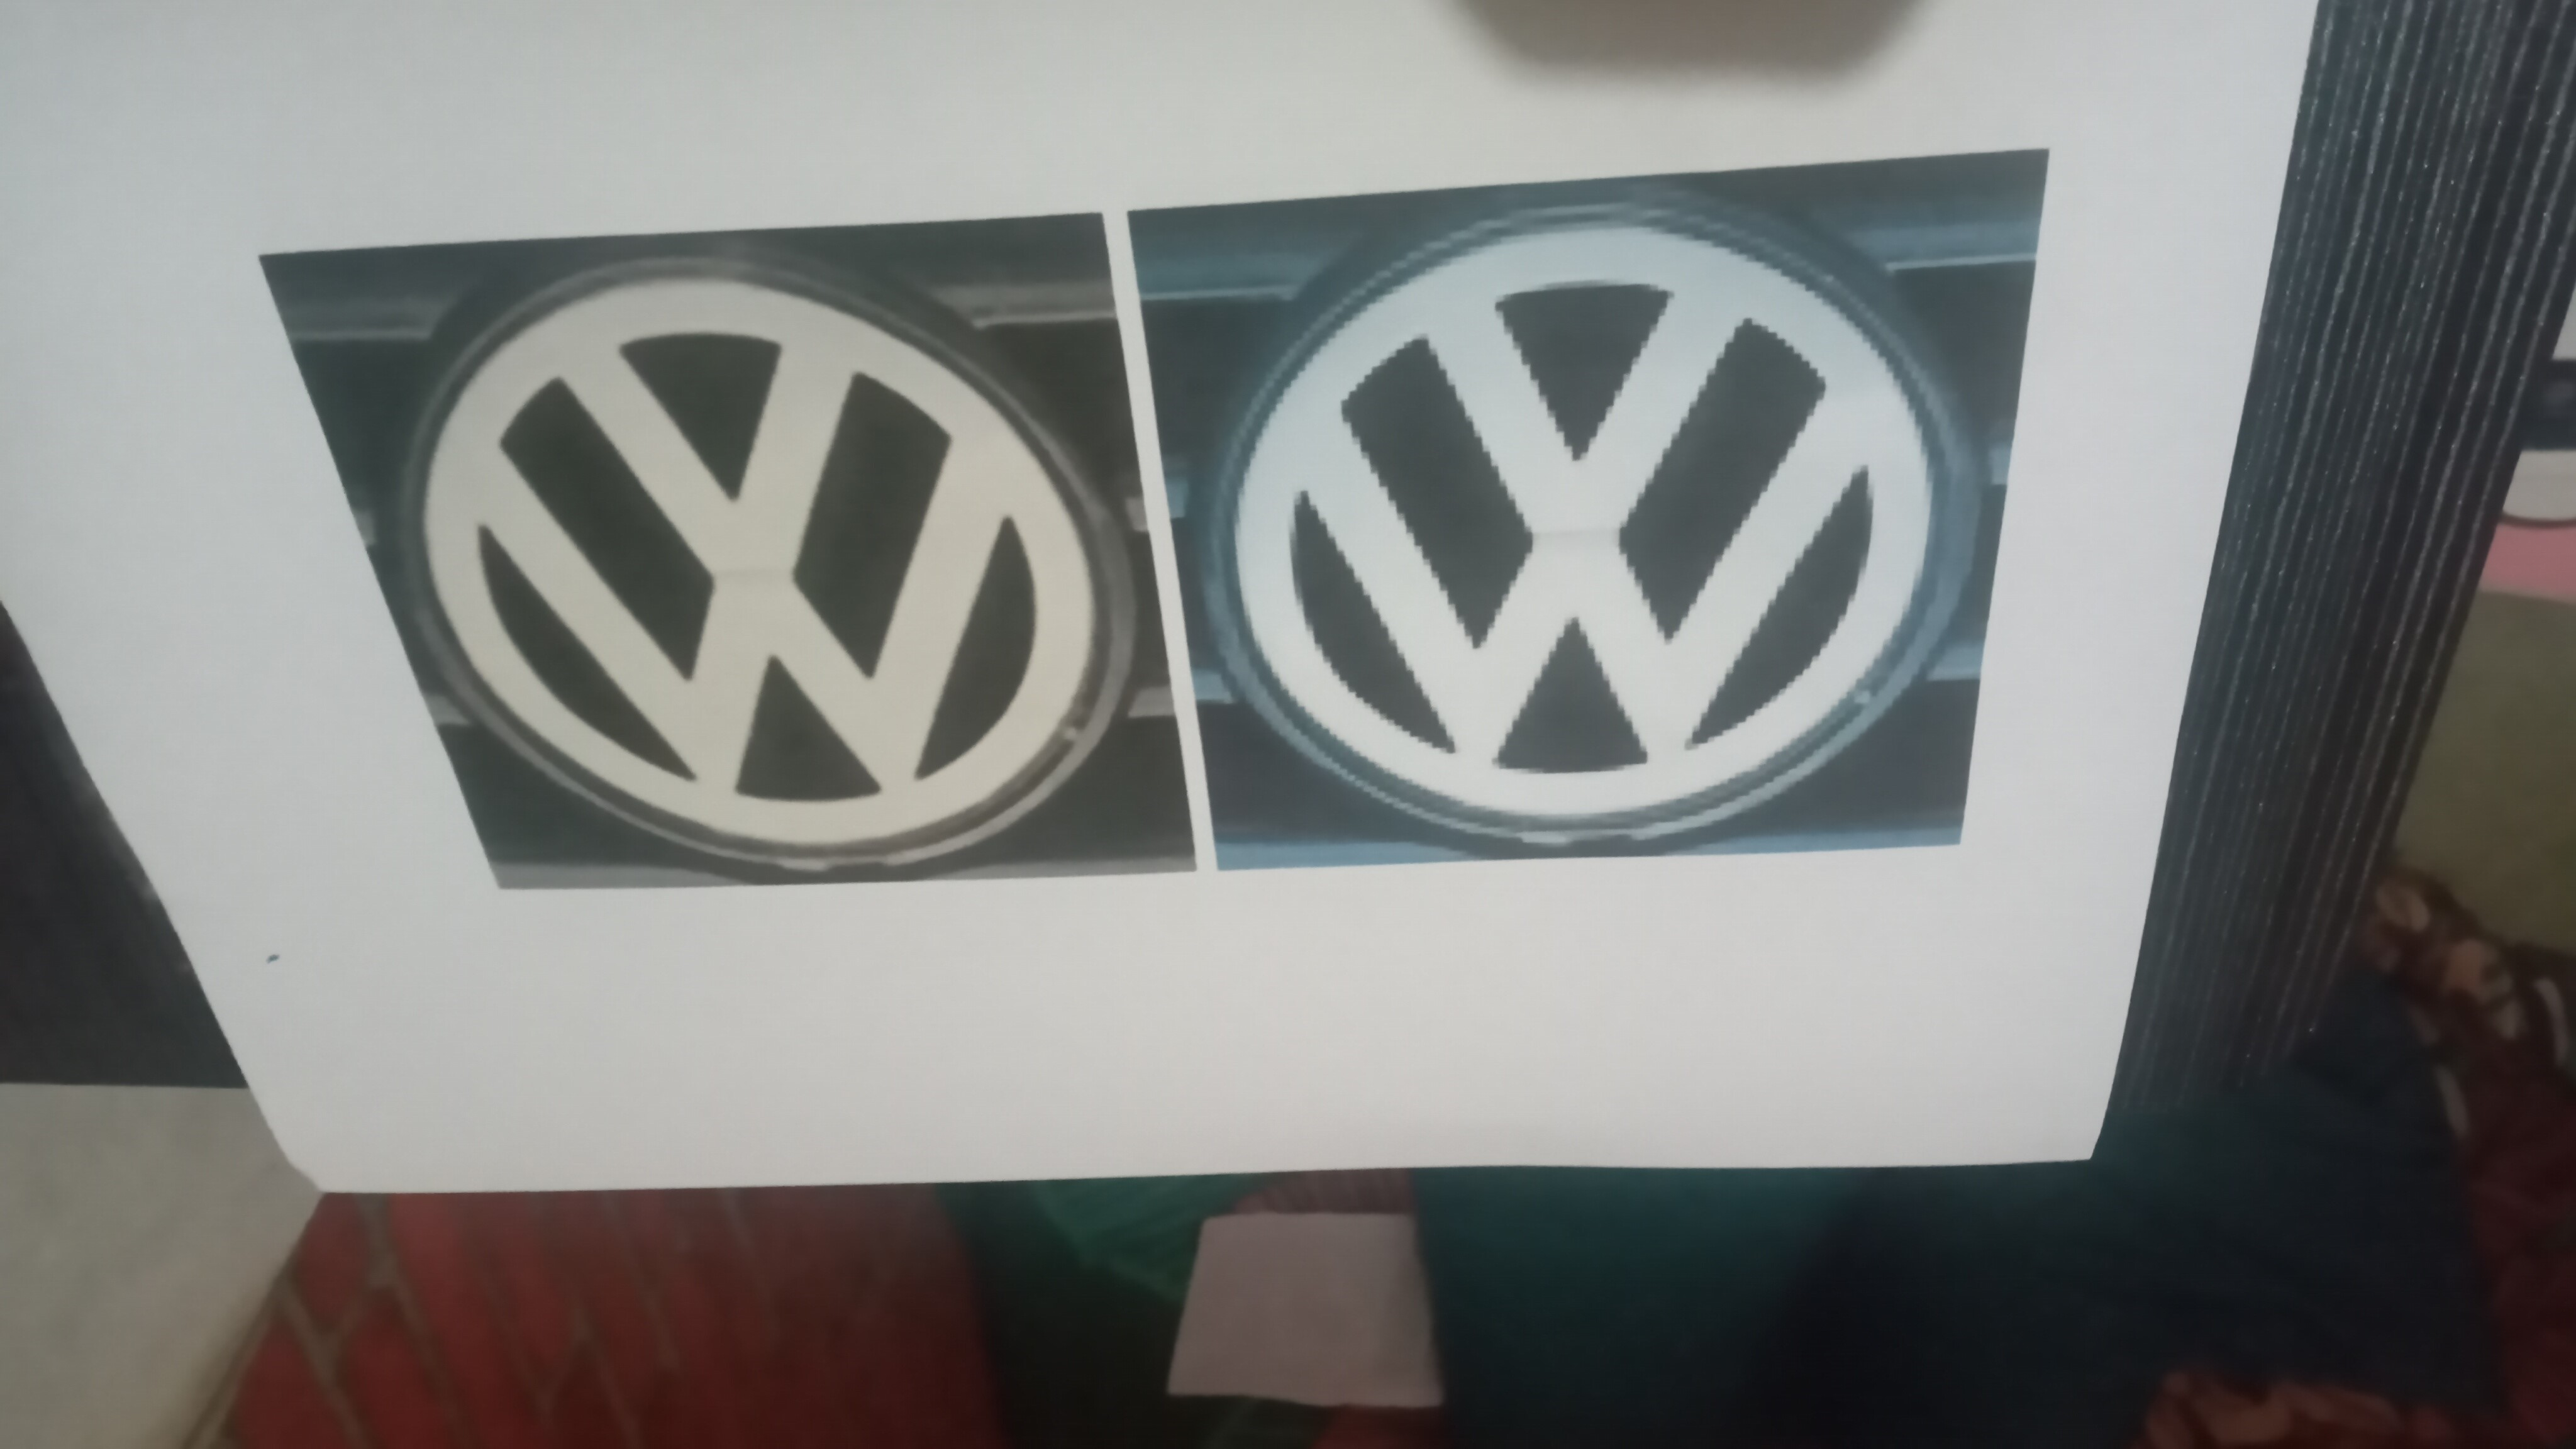Volkswagen: (1201, 205, 1971, 842), (379, 253, 1148, 885)
